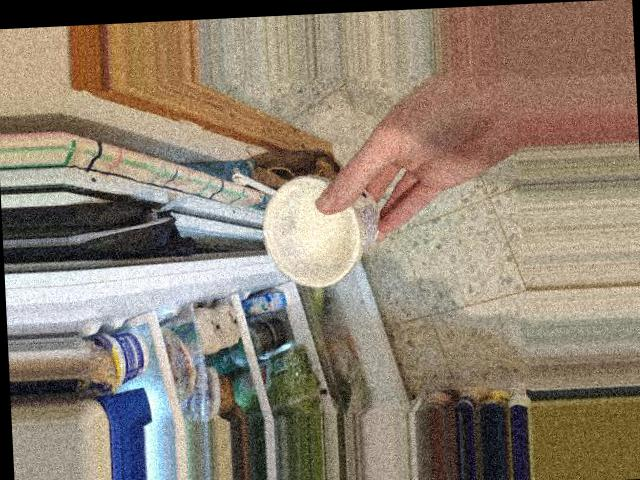cotage: (255, 167, 382, 269)
